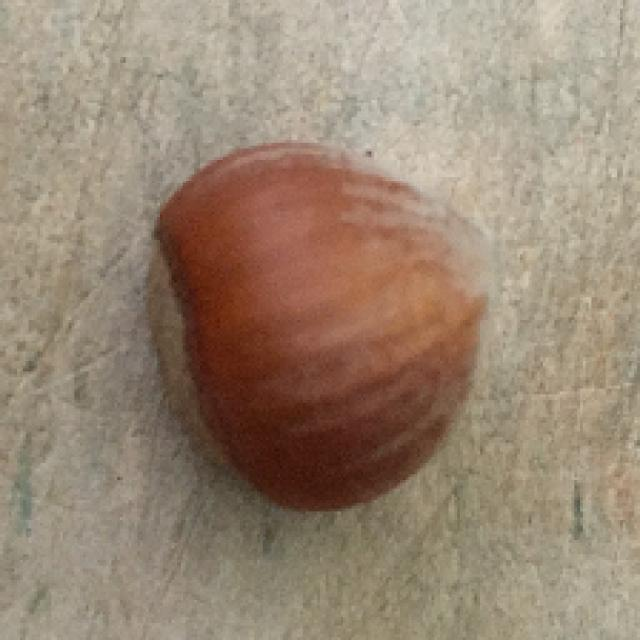qualityHazelnut: (145, 130, 514, 522)
